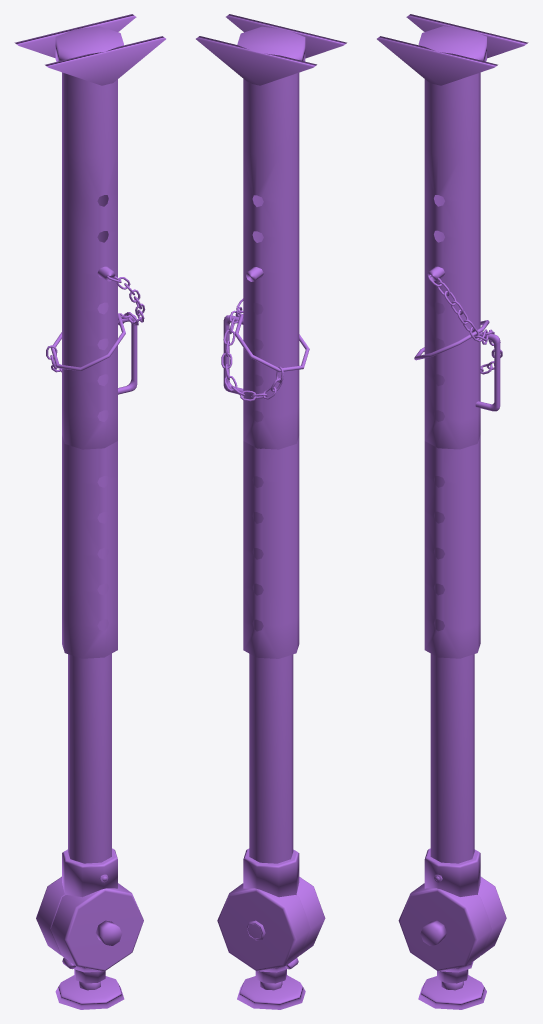
Rendered from Longer Temp Support.fbx.
The picture shows the model from 3 angles, left to right: view 1: azimuth 30°, elevation 25°; view 2: azimuth 150°, elevation 25°; view 3: azimuth 330°, elevation 25°; orthographic projection.
Parts seen in each view (by area): view 1: Cylinder.069, Cylinder.001; view 2: Cylinder.069, Cylinder.001; view 3: Cylinder.069, Cylinder.001.
Boxes of the visible parts, bbox=[...] form: Cylinder.069: bbox=[14, 14, 165, 1009]; Cylinder.001: bbox=[68, 275, 111, 863]; Cylinder.069: bbox=[196, 14, 346, 1009]; Cylinder.001: bbox=[249, 275, 293, 863]; Cylinder.069: bbox=[377, 14, 528, 1009]; Cylinder.001: bbox=[430, 275, 474, 863].
Bounding box in the file's own units: 20.04 × 155 × 13.6.
